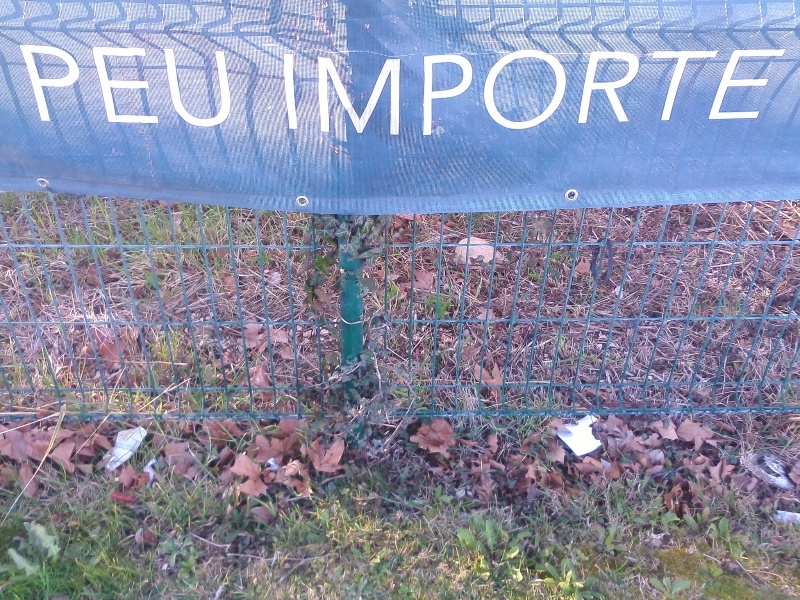text: (289, 48, 304, 140), (305, 48, 320, 140), (321, 48, 336, 140), (337, 48, 352, 140), (353, 48, 368, 140), (369, 48, 384, 140), (385, 48, 400, 140), (401, 48, 416, 140), (417, 48, 432, 140), (433, 48, 448, 140), (449, 48, 464, 140), (465, 48, 480, 140), (481, 48, 496, 140), (497, 48, 512, 140), (513, 48, 528, 140), (529, 48, 544, 140), (545, 48, 560, 140), (561, 48, 576, 140), (577, 48, 592, 140), (593, 48, 608, 140), (609, 48, 624, 140), (625, 48, 640, 140), (641, 48, 656, 140), (657, 48, 672, 140), (673, 48, 688, 140), (689, 48, 704, 140), (705, 48, 720, 140), (721, 48, 736, 140), (737, 48, 752, 140), (753, 48, 768, 140), (769, 48, 784, 140), (33, 44, 48, 129), (49, 44, 64, 129), (65, 44, 80, 129), (81, 44, 96, 129), (97, 44, 112, 129), (113, 44, 128, 129), (129, 44, 144, 129), (145, 44, 160, 129), (161, 44, 176, 129), (177, 44, 192, 129), (193, 44, 208, 129), (209, 44, 224, 129), (18, 44, 32, 129), (225, 44, 238, 129), (281, 48, 288, 140), (785, 48, 788, 140)
